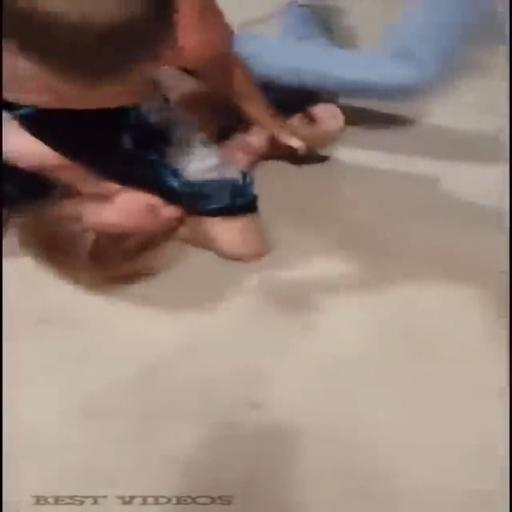violencia: (6, 0, 365, 305)
